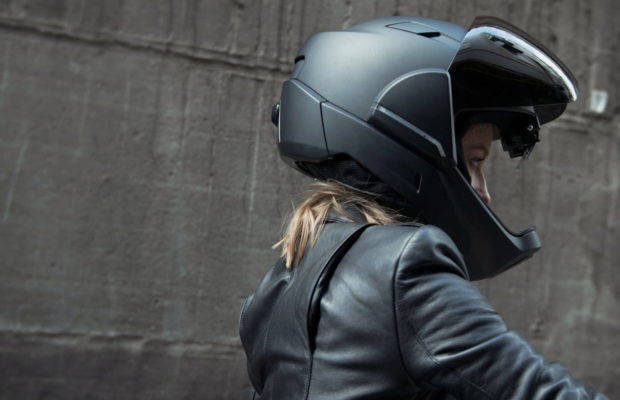with_helmet: (267, 9, 581, 284)
